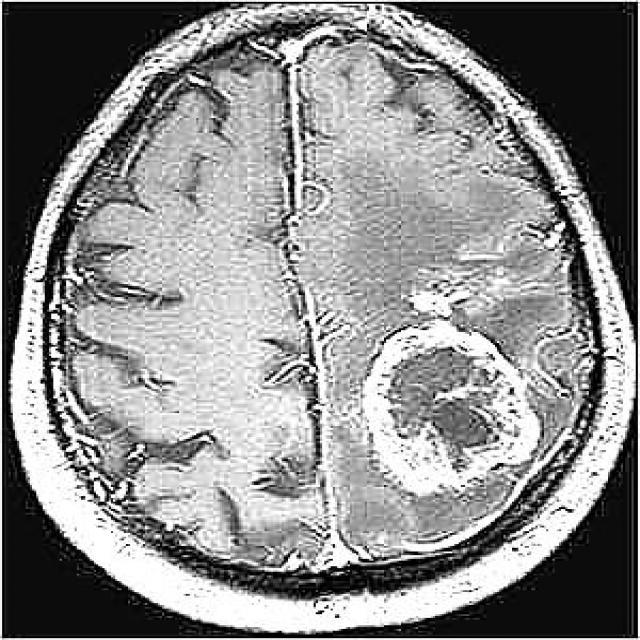tumor: (363, 293, 540, 500)
